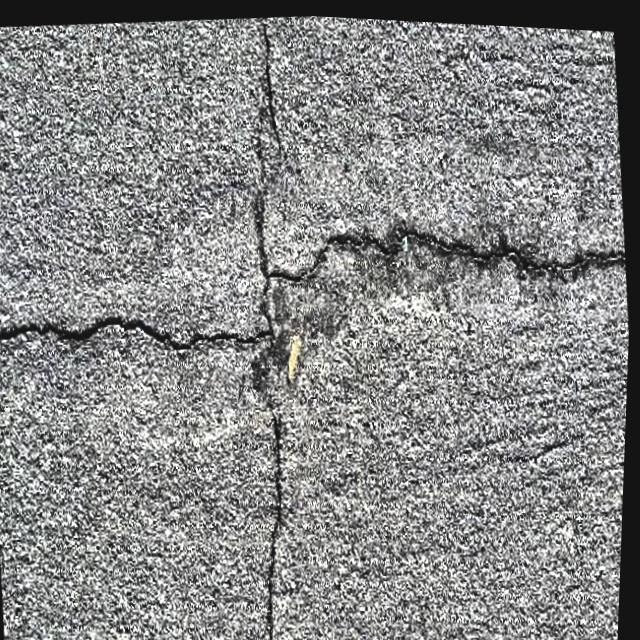cracks: (0, 229, 625, 383), (241, 17, 296, 177), (264, 384, 292, 640)
